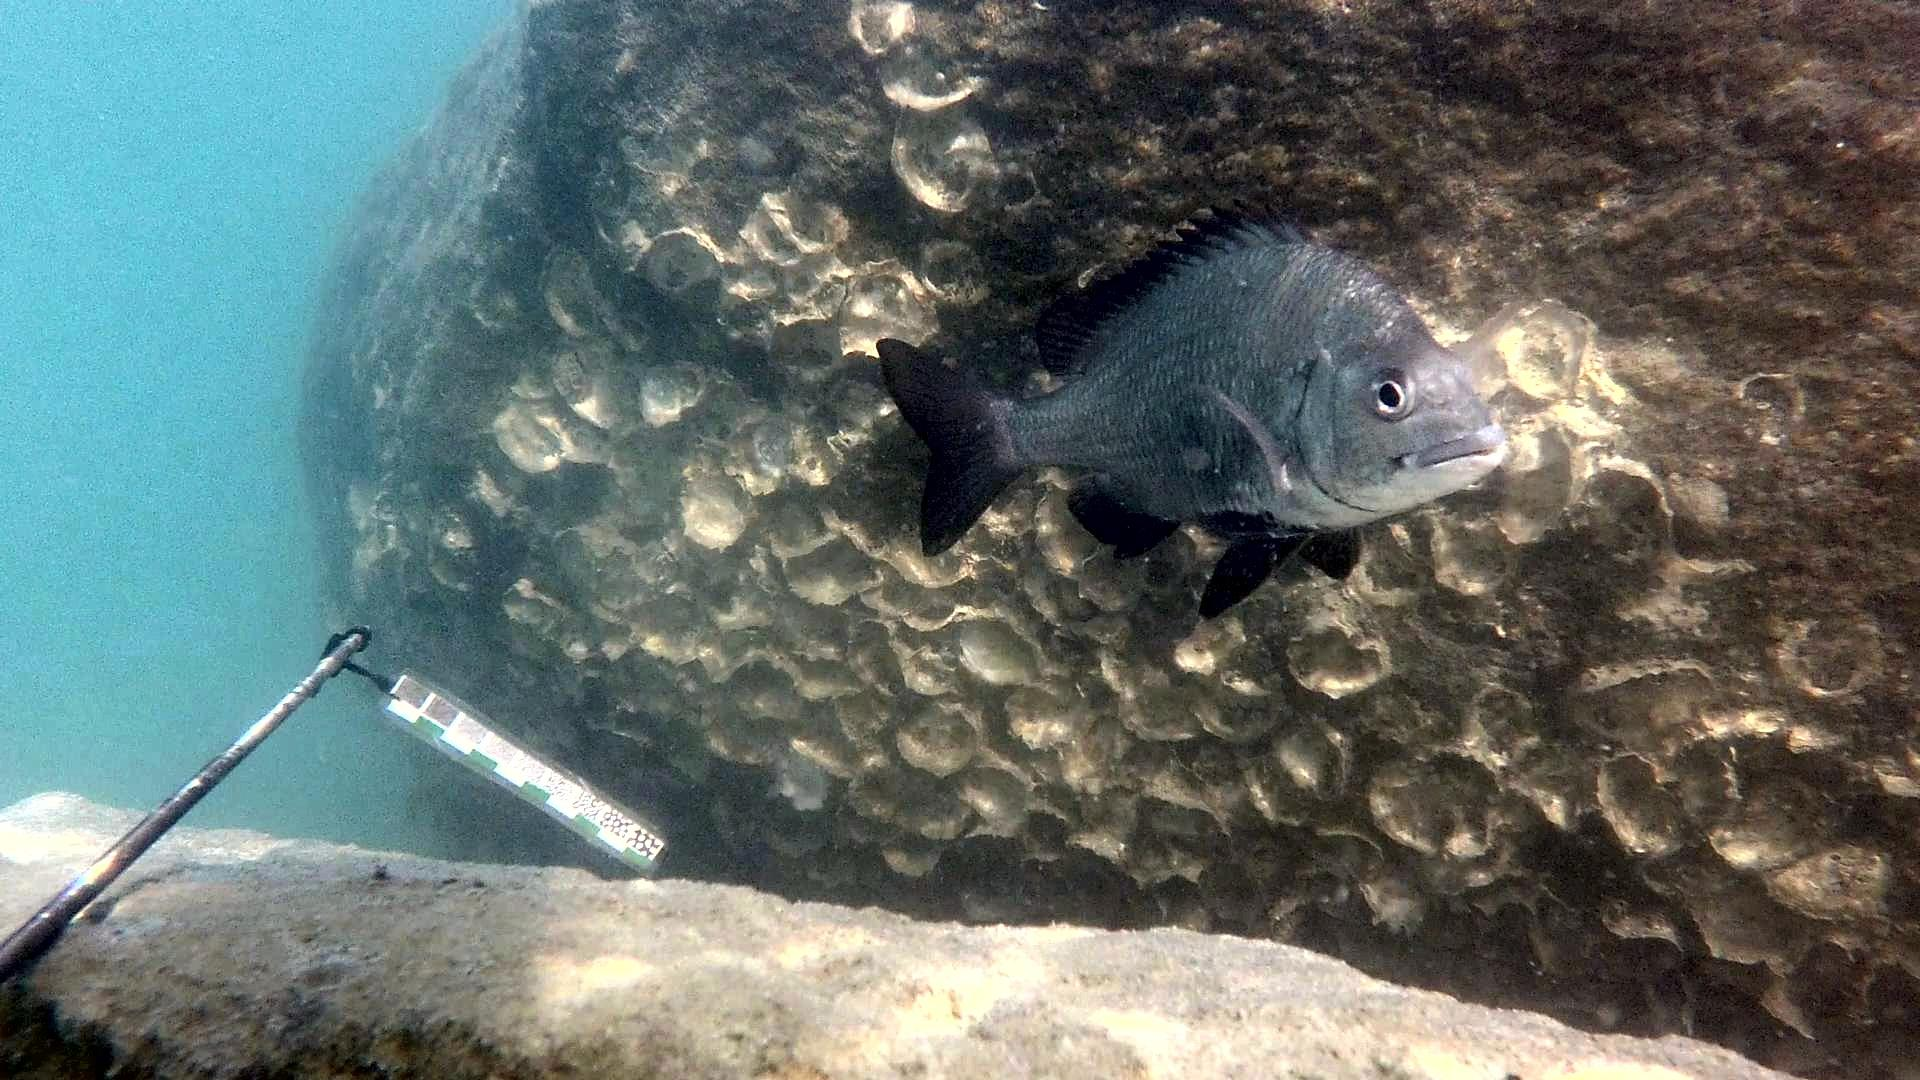acanthopagrus palmaris: (873, 194, 1514, 625)
